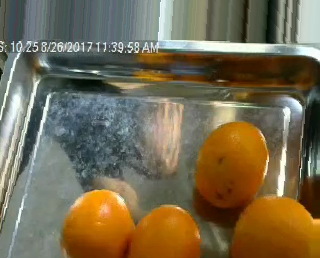Orange: (194, 122, 269, 207), (62, 188, 134, 258)
